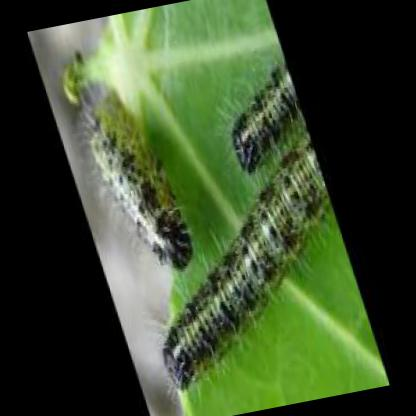pieris: (164, 127, 332, 389), (77, 78, 195, 267)
